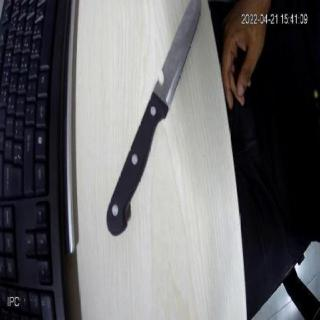knife: (102, 0, 208, 237)
